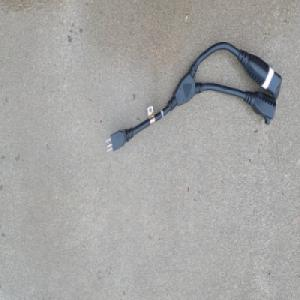Wire: (104, 39, 283, 155)
